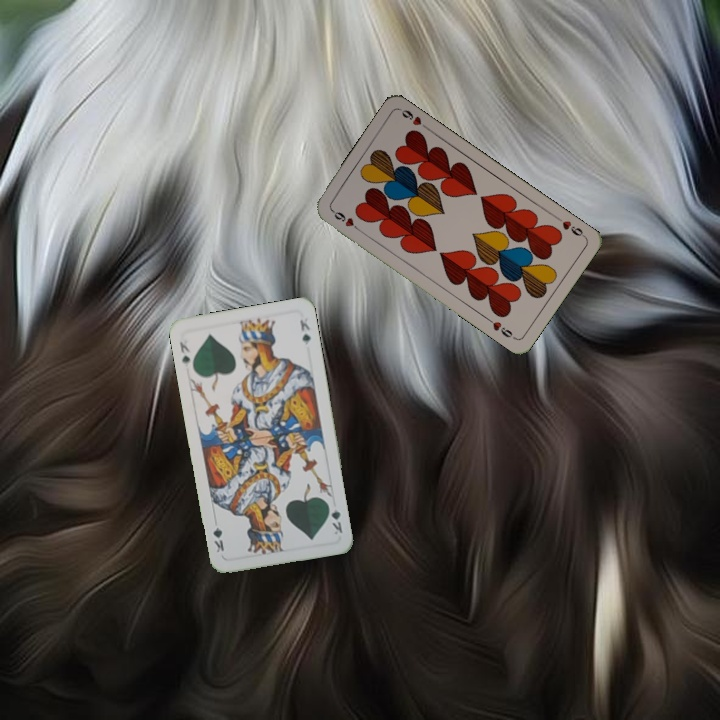GK: (324, 499, 345, 537), (176, 338, 194, 369)
H9: (328, 206, 363, 234), (552, 213, 588, 240)
